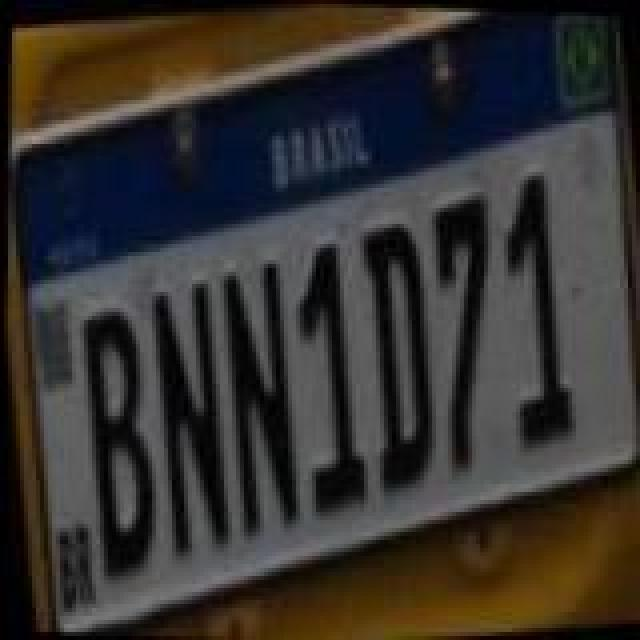1: (478, 160, 586, 456), (274, 230, 378, 518)
7: (412, 184, 524, 480)
B: (64, 298, 172, 582)
D: (340, 212, 448, 500)
N: (128, 270, 240, 566), (202, 248, 314, 544)
